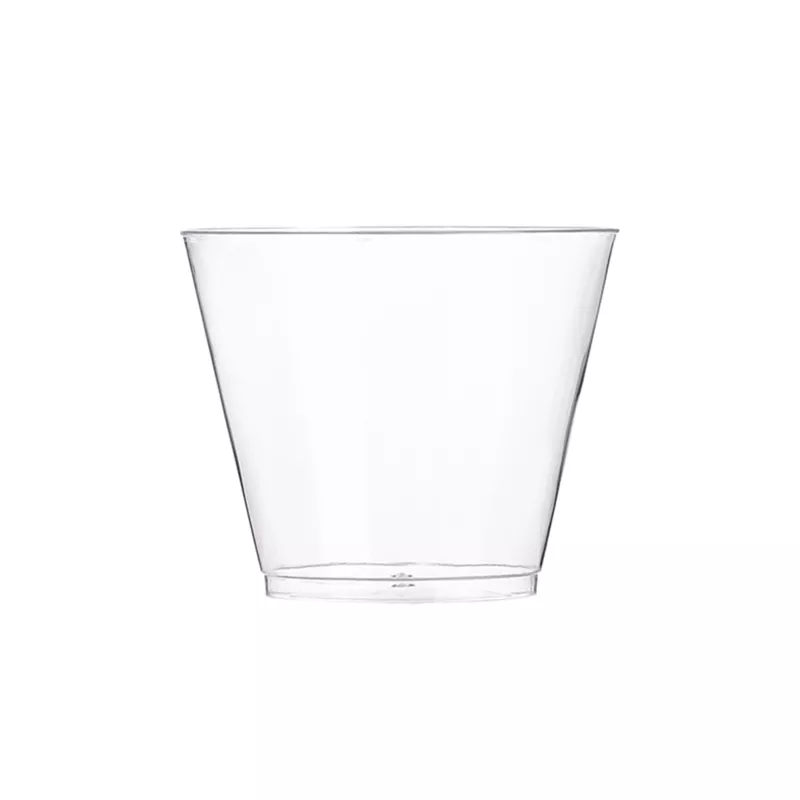plastic_bottle: (166, 207, 637, 625)
